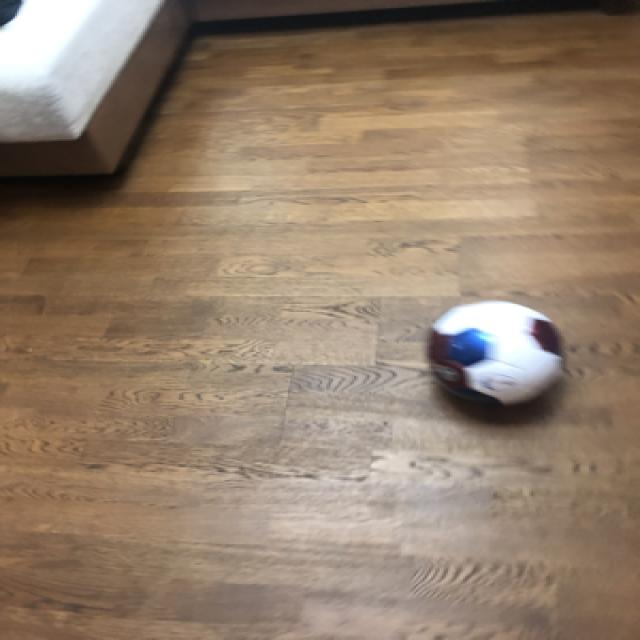soccer_ball: (422, 298, 564, 410)
